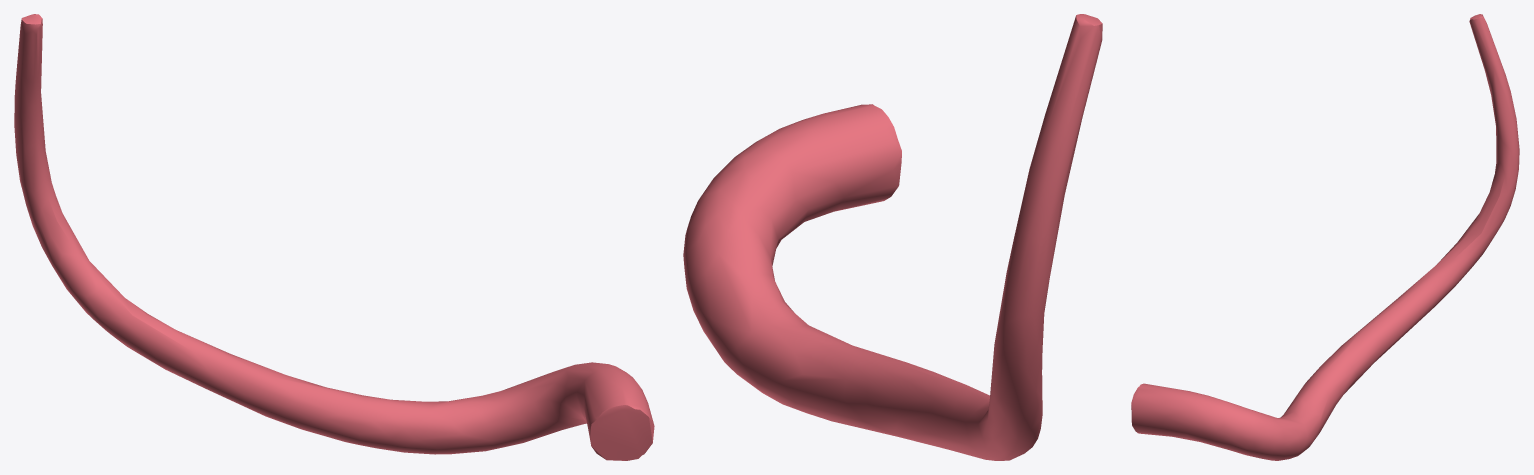
Rendered from fma68670_fj3018.glb.
3 views of the same model, side by side, from view 1: azimuth 30°, elevation 25°; view 2: azimuth 150°, elevation 25°; view 3: azimuth 270°, elevation 25° (orthographic). The views are drawn at different scales.
Parts seen in each view (by area): view 1: FMA68670_FJ3018; view 2: FMA68670_FJ3018; view 3: FMA68670_FJ3018.
Part boxes in pixels (left/top/right/bottom): FMA68670_FJ3018: left=14, top=14, right=654, bottom=460; FMA68670_FJ3018: left=683, top=14, right=1102, bottom=460; FMA68670_FJ3018: left=1131, top=14, right=1519, bottom=460.
Size of the model in its own units: 0.0447 by 0.0417 by 0.0461.
